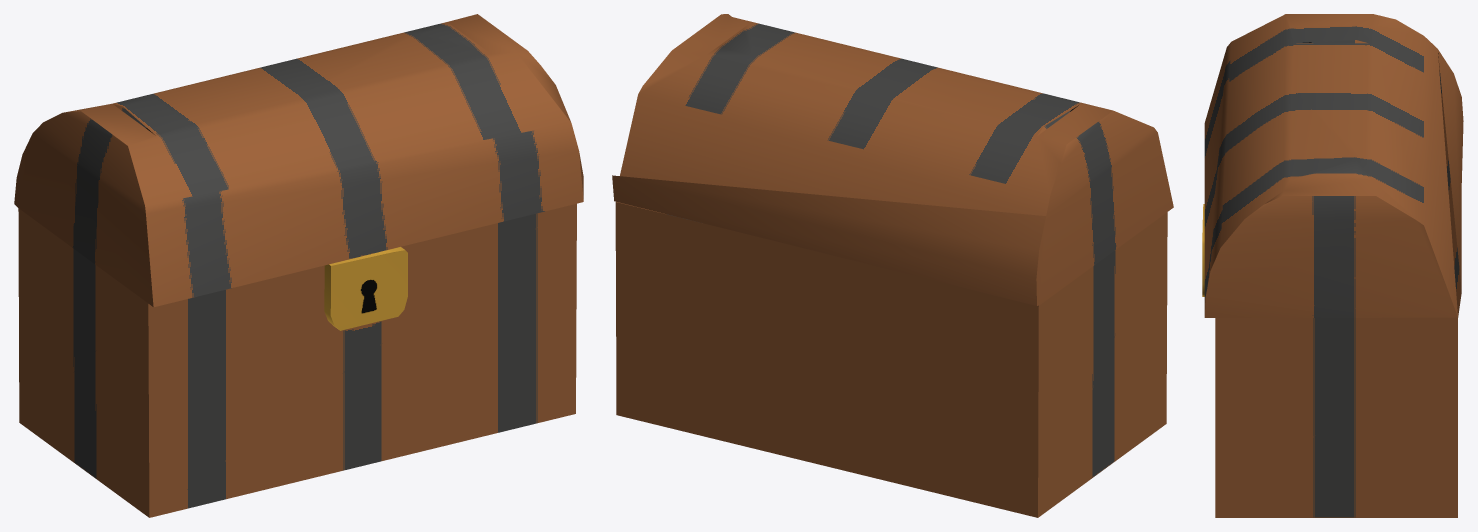
The model's file is chest.glb.
3 views of the same model, side by side, from view 1: azimuth 30°, elevation 25°; view 2: azimuth 150°, elevation 25°; view 3: azimuth 270°, elevation 25° (orthographic). The views are drawn at different scales.
Parts seen in each view (by area): view 1: Chest_box_0, Chest_lid_0, Lock_plate_0; view 2: Chest_box_0, Chest_lid_0; view 3: Chest_lid_0, Chest_box_0.
Part boxes in pixels (left/top/right/bottom): Chest_box_0: left=18, top=203, right=576, bottom=517; Chest_lid_0: left=14, top=14, right=583, bottom=307; Lock_plate_0: left=324, top=247, right=407, bottom=330; Chest_box_0: left=615, top=201, right=1167, bottom=517; Chest_lid_0: left=612, top=14, right=1173, bottom=305; Chest_lid_0: left=1204, top=14, right=1463, bottom=317; Chest_box_0: left=1215, top=317, right=1457, bottom=517.
Size of the model in its own units: 0.7831 by 0.5981 by 0.4407.
Materials: 1 (1 with a texture image).
